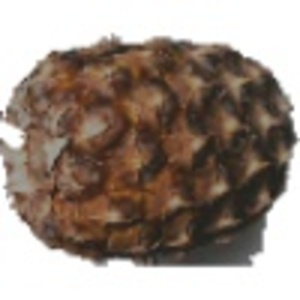abacaxi: (5, 40, 294, 258)
